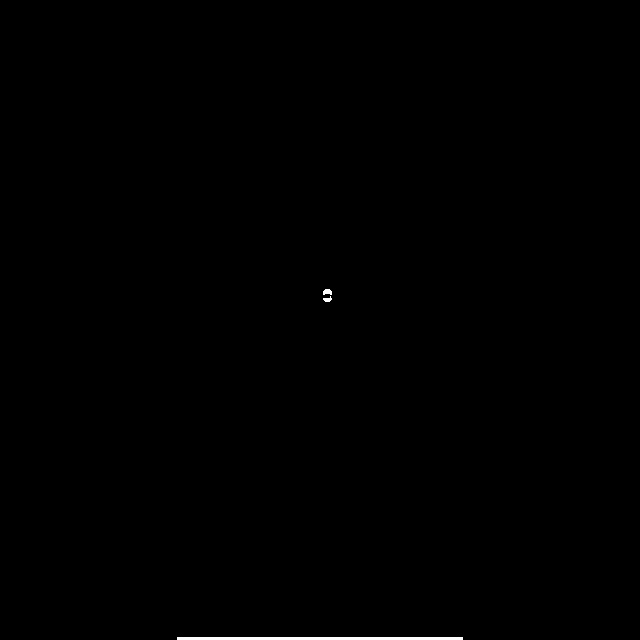03_intrusion: (321, 285, 336, 307)
